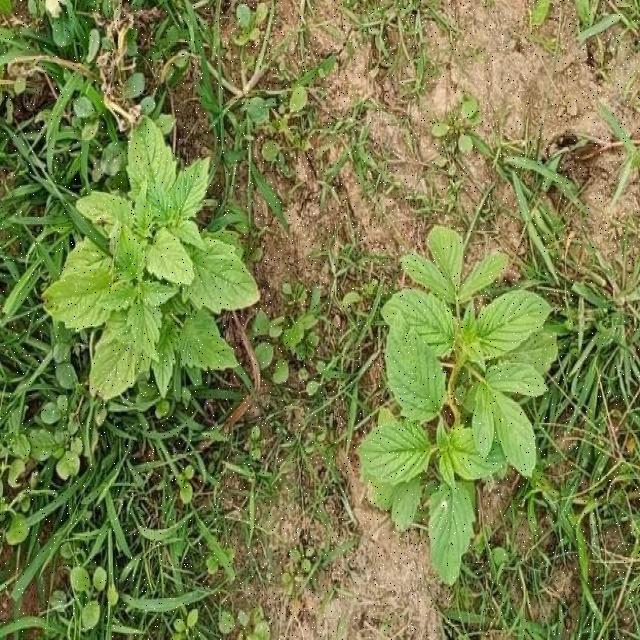plant: (360, 227, 556, 584), (45, 118, 258, 400)
